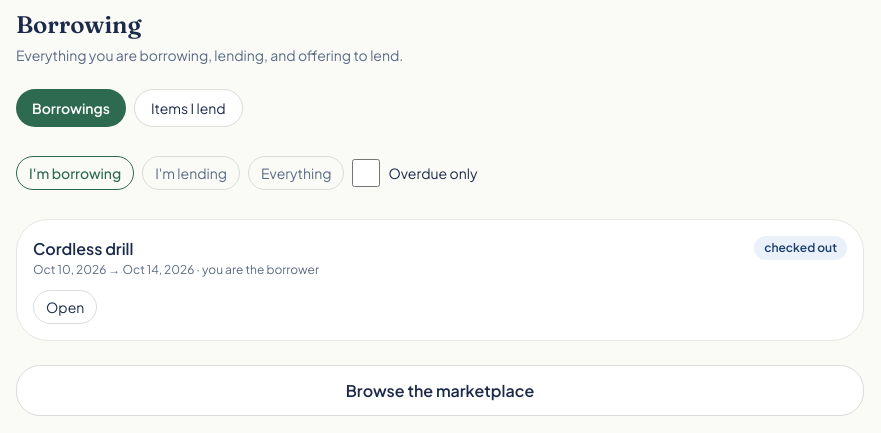
Test: BorrowLists › switches between the borrowed and lent scopes through the API
Check: the text "Oct 10, 2026 → Oct 14, 2026 · you are the borrower" is shown, box [33,262,319,278]
Click the button "I'm lending" at (191, 173), box [142,156,240,190]
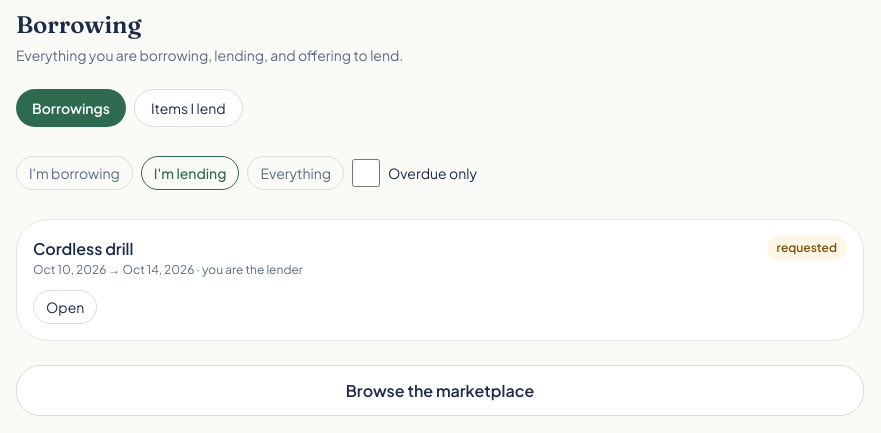
Check: the text "Oct 10, 2026 → Oct 14, 2026 · you are the lender" is shown, box [33,262,303,278]
